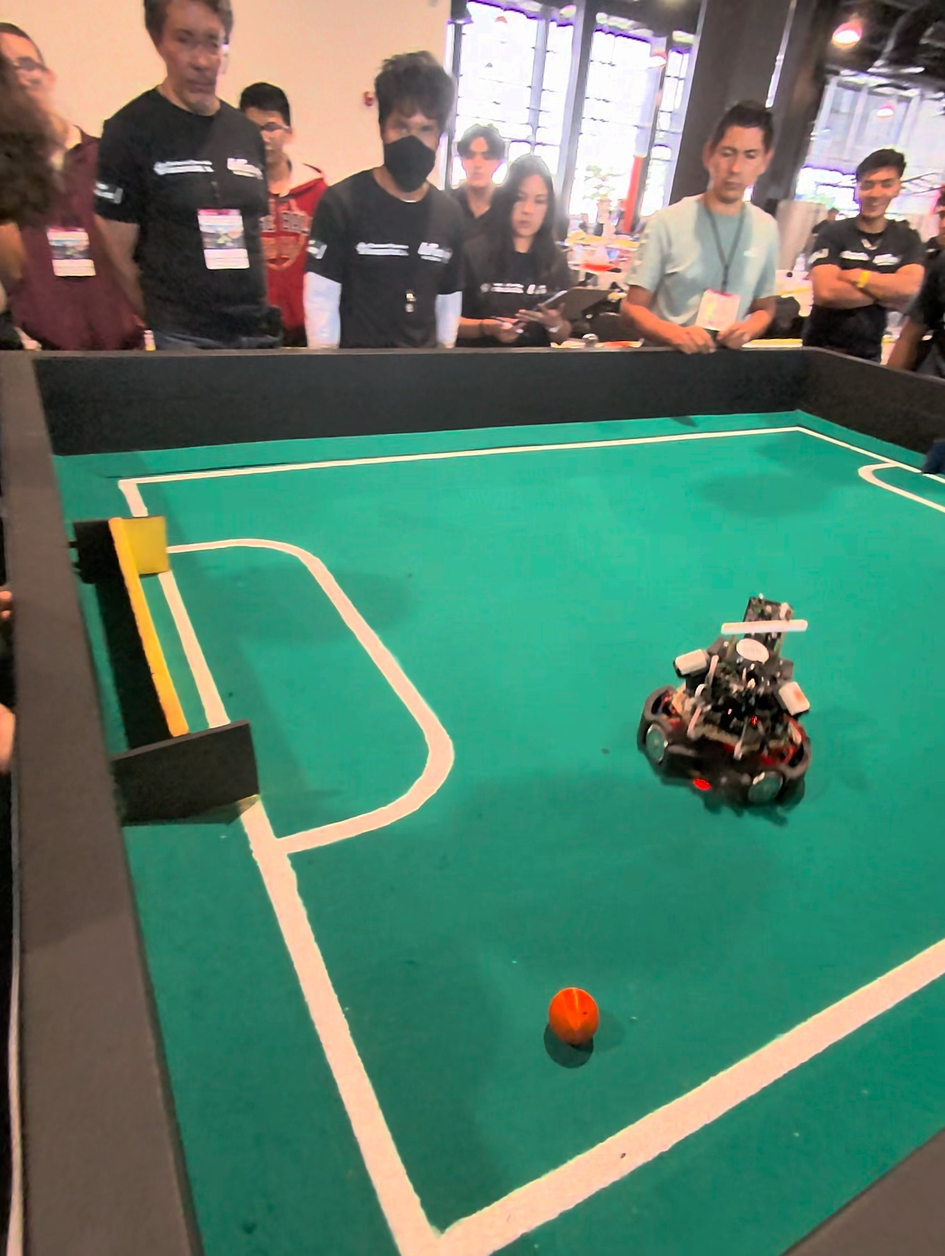Robot: (636, 597, 817, 832)
pelota: (548, 992, 603, 1062)
